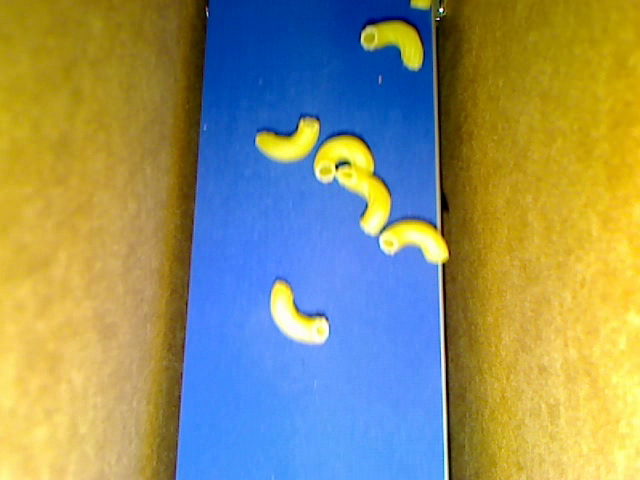elbow: (335, 163, 393, 238), (268, 276, 330, 346), (359, 20, 424, 71), (379, 218, 450, 264), (254, 115, 320, 164), (312, 136, 374, 185)
